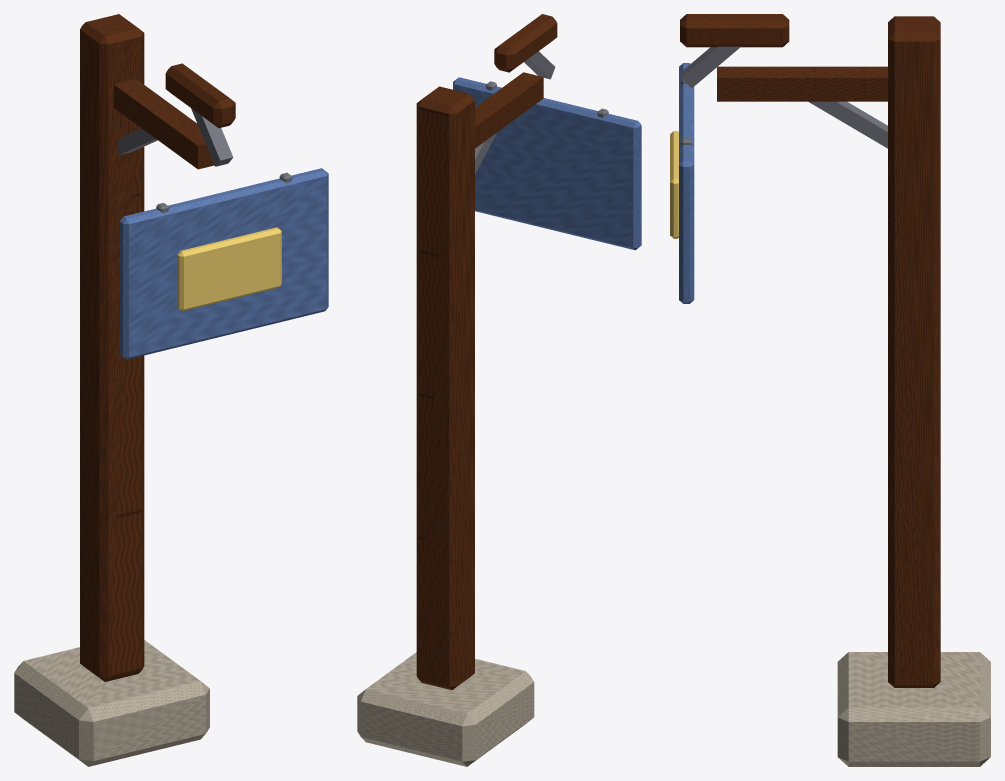
Rendered from fantasy-mmo-city-and-townsfolk-trade-sign-post-8667d4a9__32779.glb.
The picture shows the model from 3 angles, left to right: view 1: azimuth 30°, elevation 25°; view 2: azimuth 150°, elevation 25°; view 3: azimuth 270°, elevation 25°; orthographic projection. The views are drawn at different scales.
Parts seen in each view (by area): view 1: trade-sign-post, sign/blue, sign/gold; view 2: trade-sign-post, sign/blue; view 3: trade-sign-post, sign/blue, sign/gold.
Part boxes in pixels (<box>): trade-sign-post: <box>14,14,235,766</box>; sign/blue: <box>120,168,328,359</box>; sign/gold: <box>177,227,281,311</box>; trade-sign-post: <box>357,14,557,766</box>; sign/blue: <box>453,77,641,250</box>; trade-sign-post: <box>680,14,990,766</box>; sign/blue: <box>679,63,694,303</box>; sign/gold: <box>670,131,678,238</box>.
Size of the model in its own units: 1.1 by 3.64 by 1.47.
Materials: 5 (3 with a texture image).
